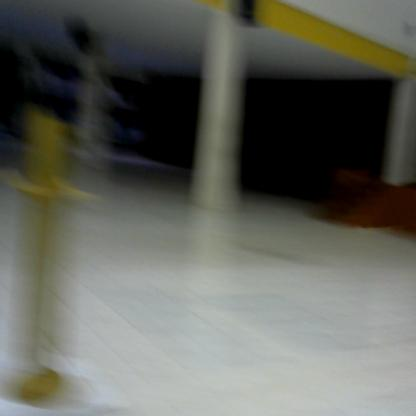pole: (1, 91, 105, 408)
